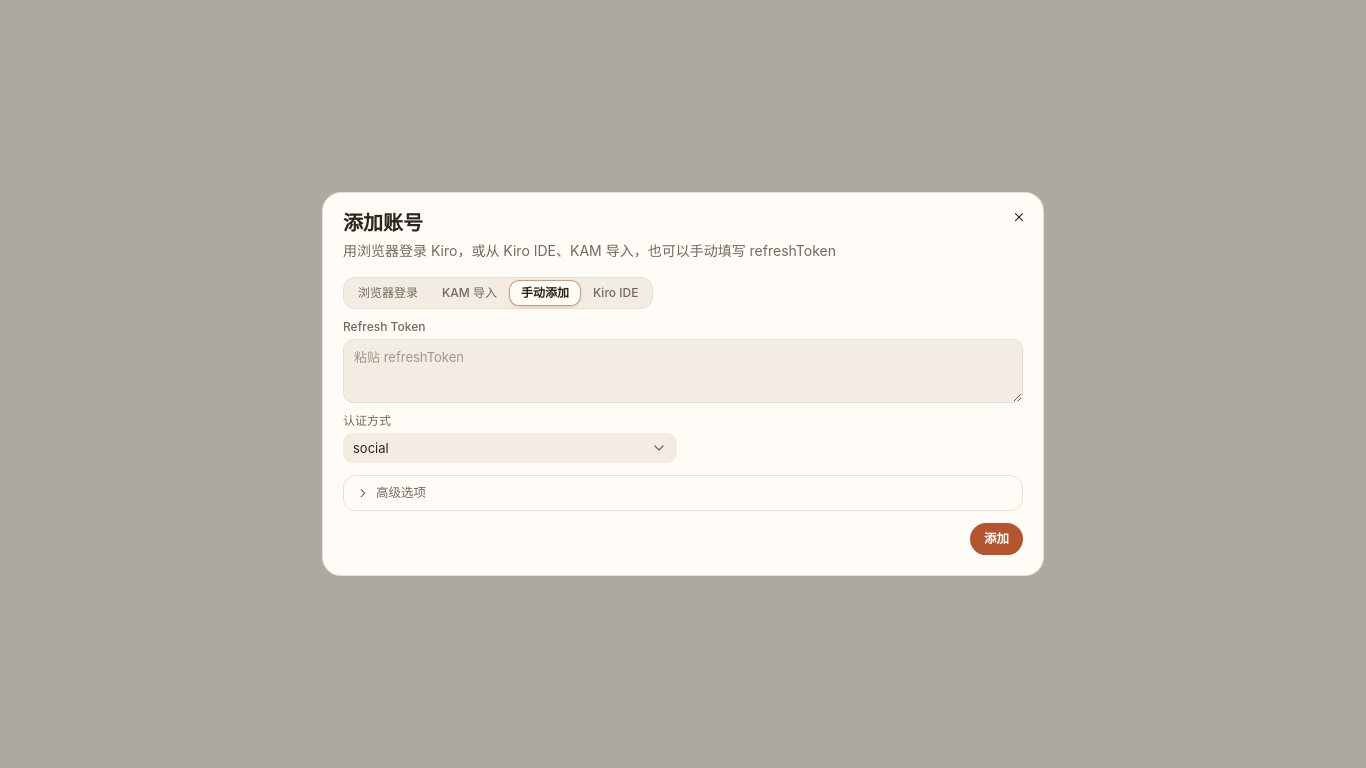
Test case: AddAccountDialog manual form › only shows the client fields the chosen auth method needs
The width and height of the screenshot is (1366, 768).
expect the field labelled "Client ID" is not shown: met
expect the field labelled "Client Secret" is not shown: met
Click the dropdown named "认证方式": (371, 448) [343,433,677,463]
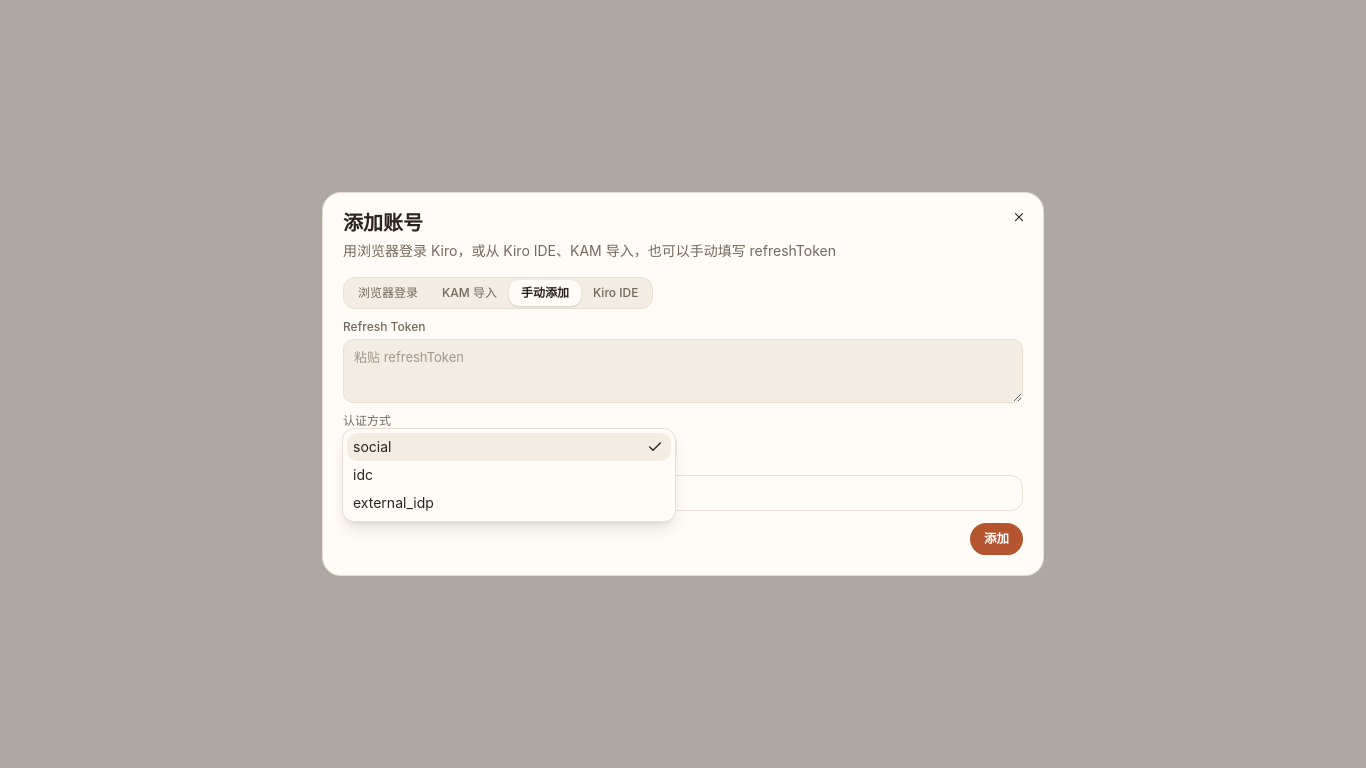
Click the option "idc": (363, 475) [353,466,373,483]
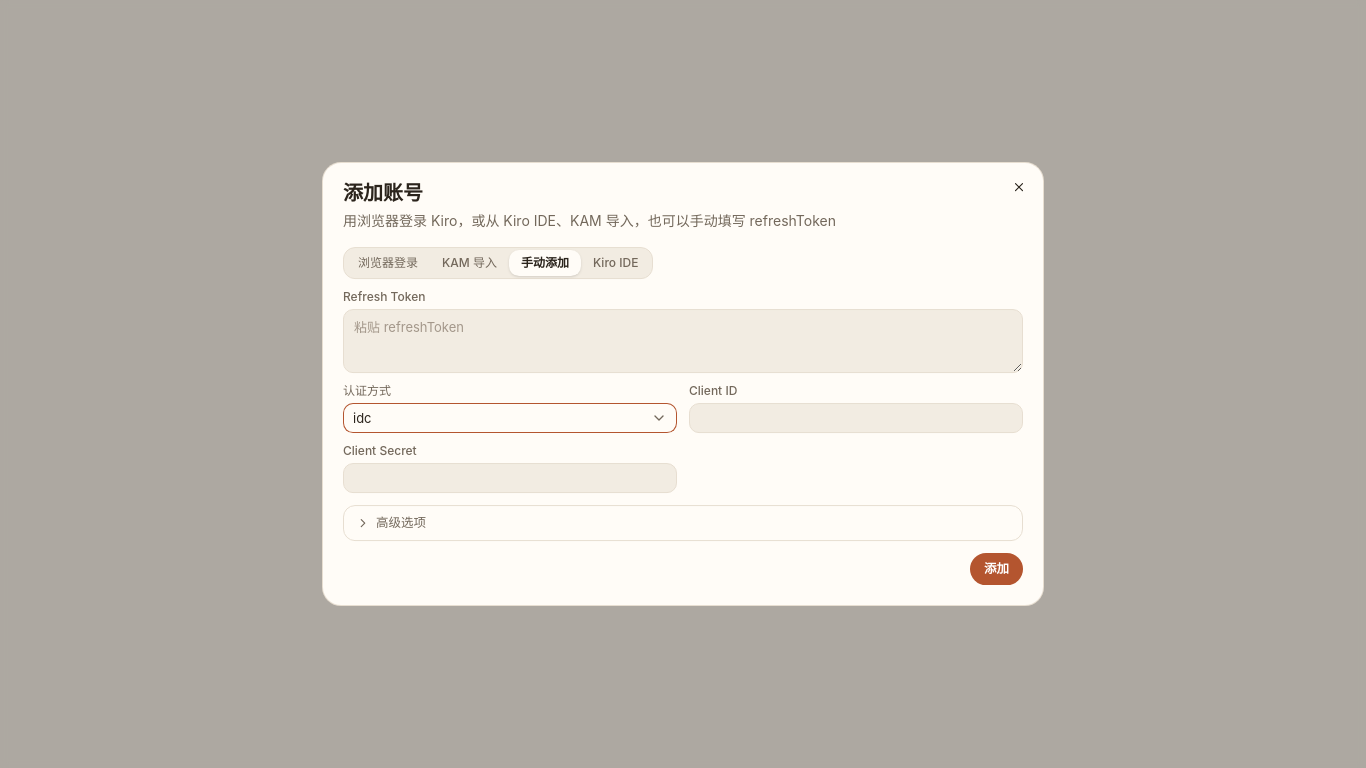
expect the field labelled "Client ID" is shown: met, box [689,403,1023,433]
expect the password field labelled "Client Secret" is shown: met, box [343,463,677,493]
Click the dropdown named "认证方式": (362, 418) [343,403,677,433]
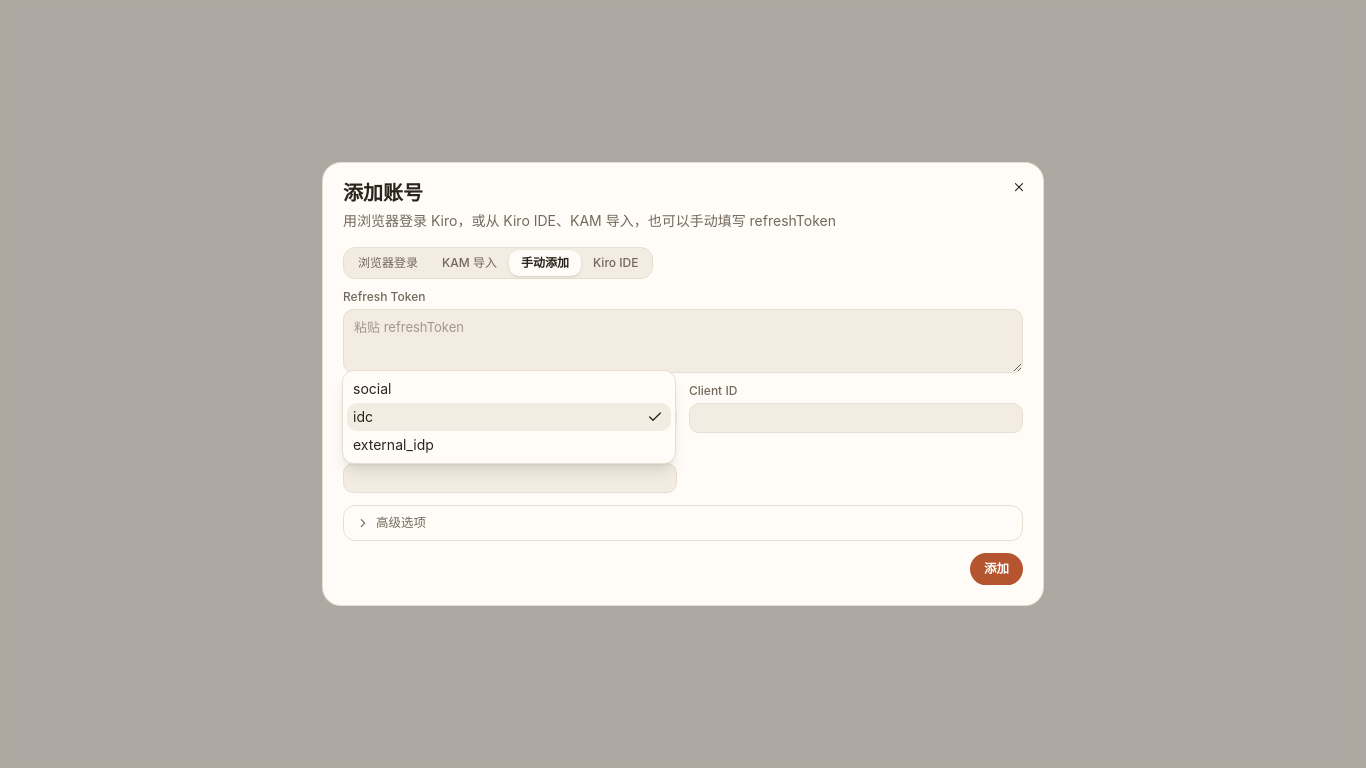
Click the option "external_idp": (393, 445) [353,436,434,453]
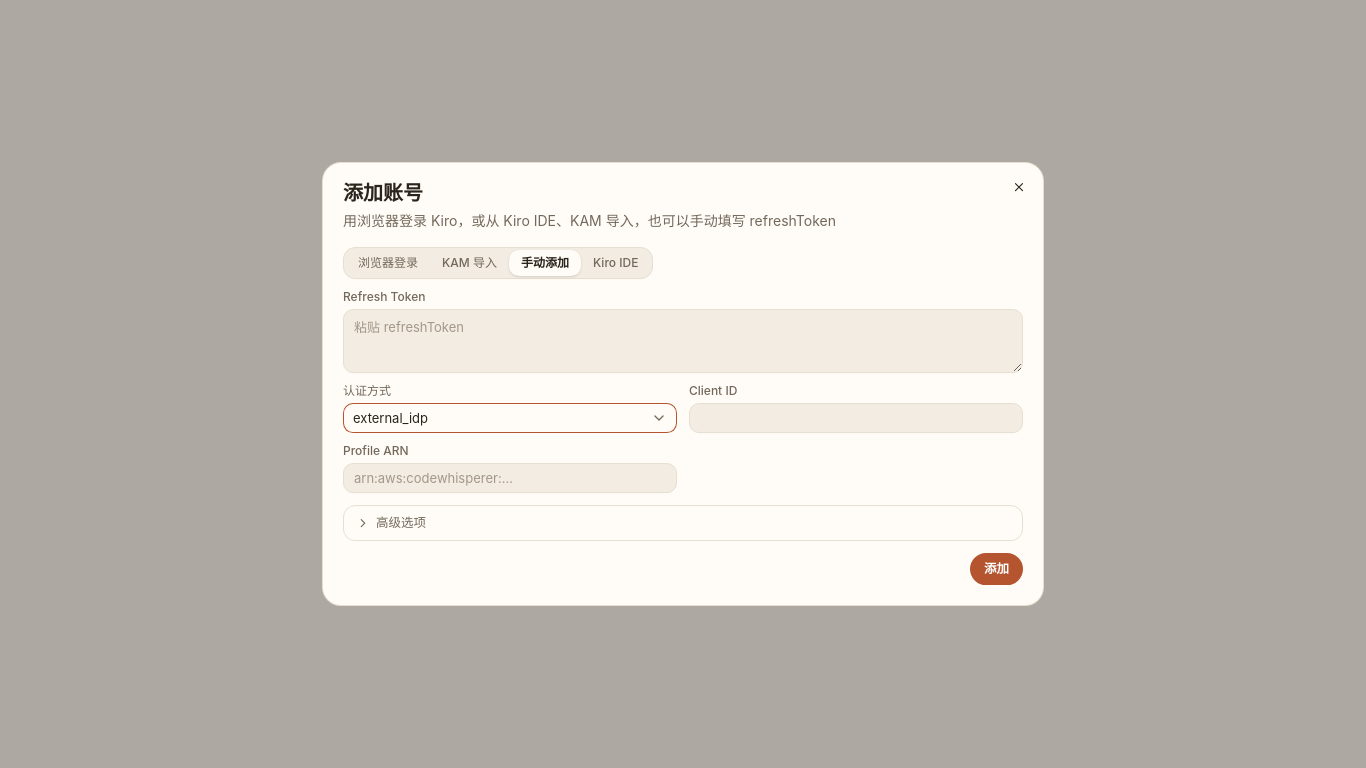
expect the field labelled "Client ID" is shown: met, box [689,403,1023,433]
expect the label labelled "Client Secret" is gone: met
